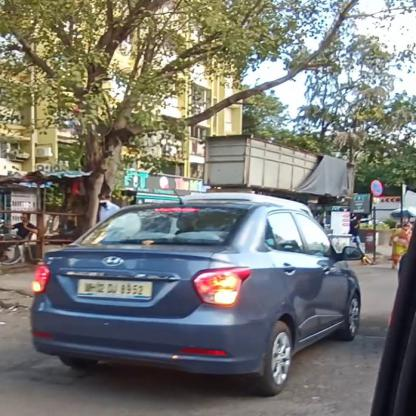license_plate: (77, 277, 152, 300)
